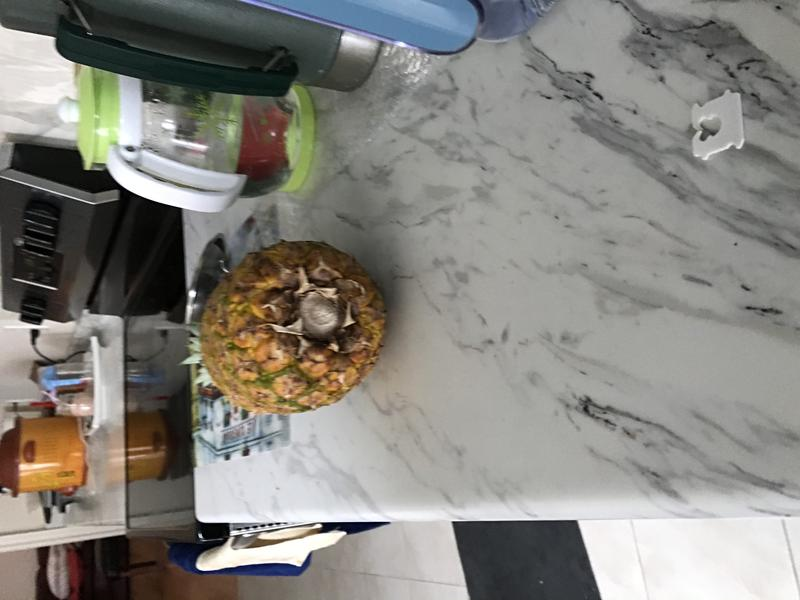pineapple: (160, 233, 397, 424)
